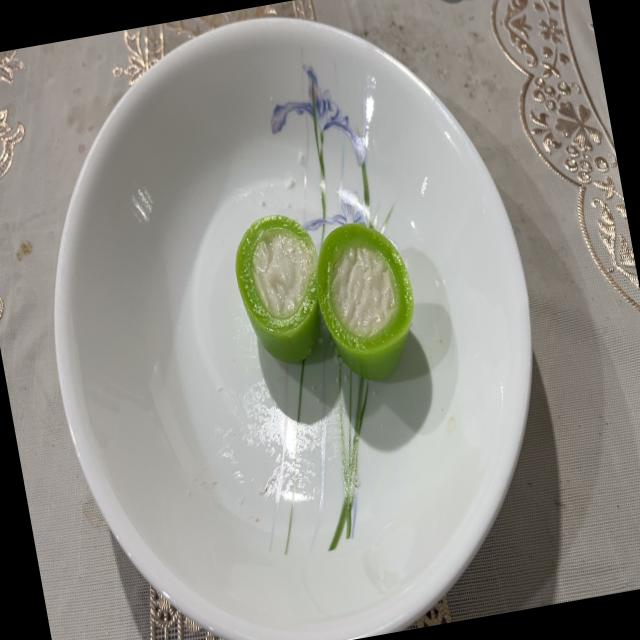nona-manis: (317, 223, 414, 380), (235, 214, 320, 363)
